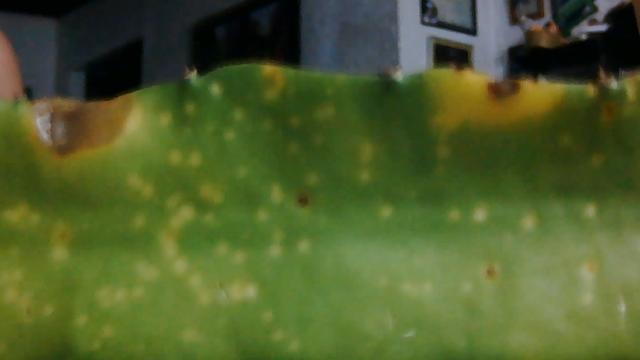stemcanker: (344, 130, 636, 360), (2, 184, 291, 360), (135, 113, 347, 180), (296, 187, 318, 213)
